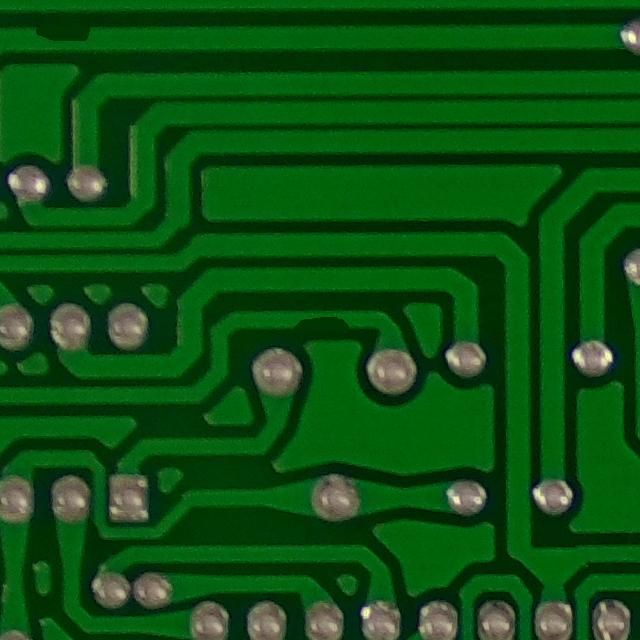mouse_bite: (278, 300, 362, 340)
